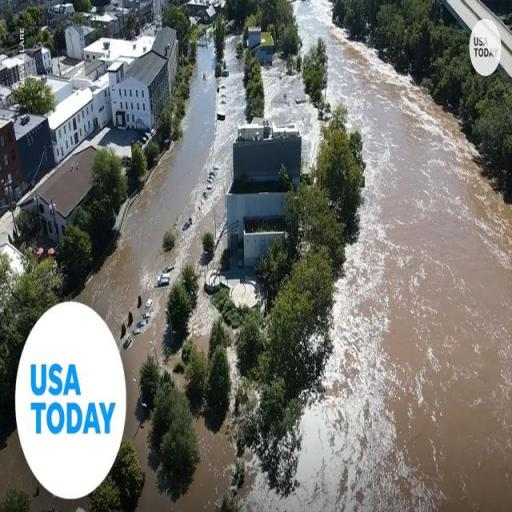flood: (236, 0, 512, 512), (76, 36, 244, 512), (0, 434, 87, 512), (263, 60, 321, 169), (190, 288, 217, 350)
house: (230, 124, 300, 230), (106, 44, 173, 137), (38, 81, 102, 163), (0, 46, 39, 88), (152, 27, 186, 70), (86, 34, 132, 60), (64, 24, 90, 60), (186, 1, 220, 22), (244, 23, 266, 51)
